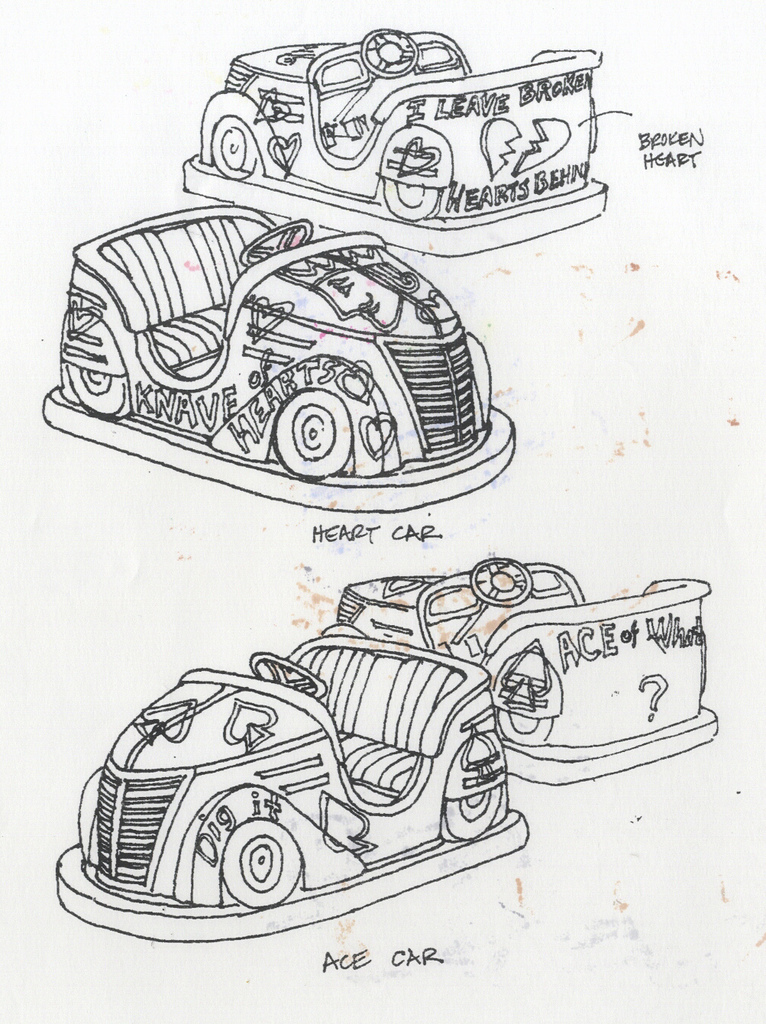Car: (75, 632, 506, 907), (58, 204, 486, 479), (198, 24, 602, 223), (333, 555, 709, 748)
